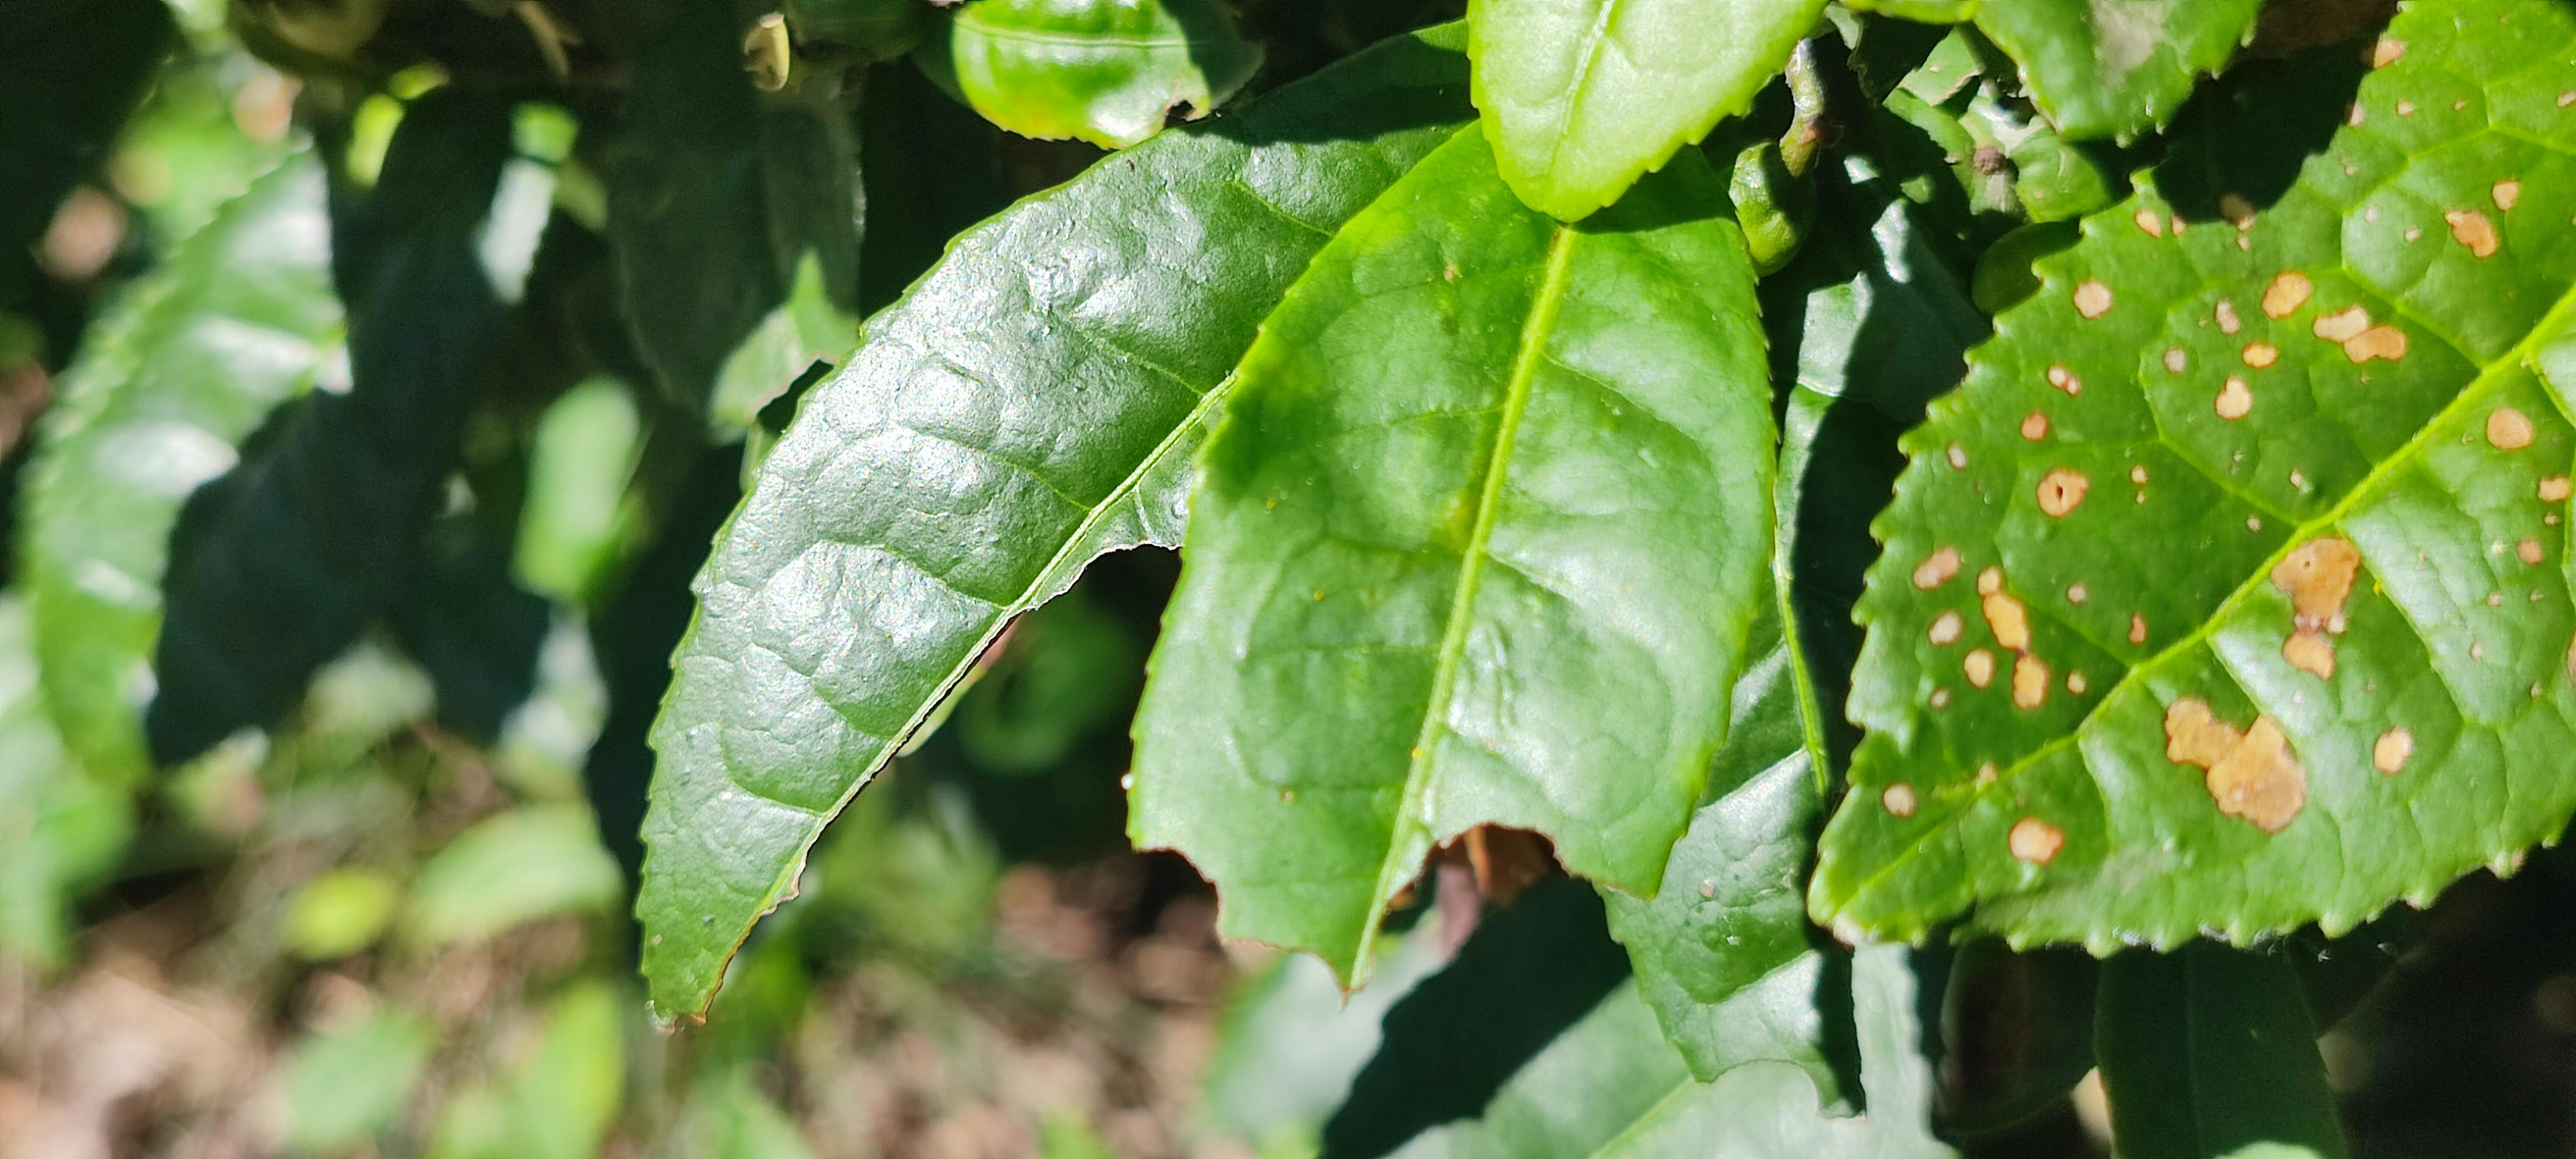chihuo_high: (632, 16, 1465, 1044), (1132, 120, 1789, 1006)
healthy: (1460, 2, 1825, 227)
tanju_high: (1809, 8, 2574, 960)
